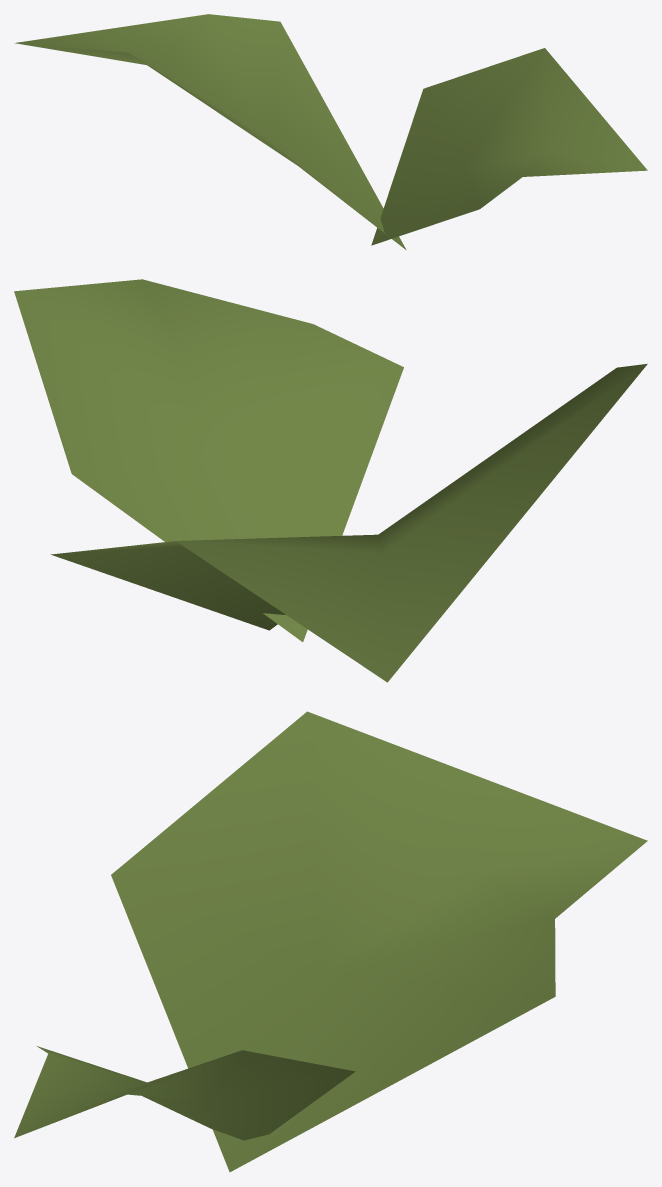
File: Weed3.fbx
3 renders of one model, top to bottom at view 1: azimuth 30°, elevation 25°; view 2: azimuth 150°, elevation 25°; view 3: azimuth 270°, elevation 25°, orthographic. The views are drawn at different scales.
Parts seen in each view (by area): view 1: Weed_Dandellion_A_spring-summer.032; view 2: Weed_Dandellion_A_spring-summer.032; view 3: Weed_Dandellion_A_spring-summer.032.
Part boxes in pixels (x1,y1,x2,y2): Weed_Dandellion_A_spring-summer.032: (14,14,647,250); Weed_Dandellion_A_spring-summer.032: (14,279,647,682); Weed_Dandellion_A_spring-summer.032: (14,711,647,1172).
Bounding box in the file's own units: 83.48 × 46.55 × 87.74.
